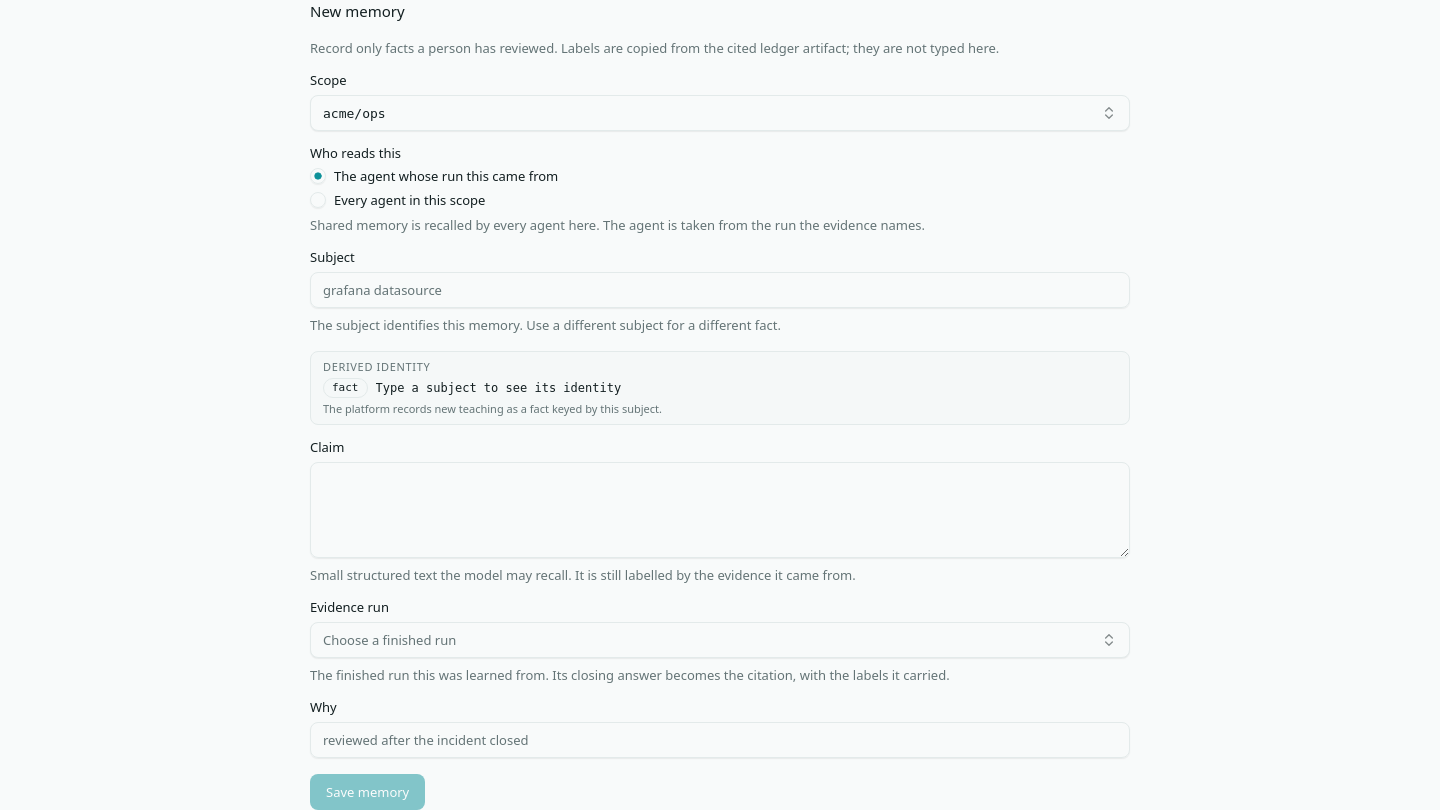
Test: global memory authoring › says when more finished runs exist beyond the first page
Click the dropdown named "Evidence run" at (390, 640), box [310, 622, 1130, 658]
(page scrolled)
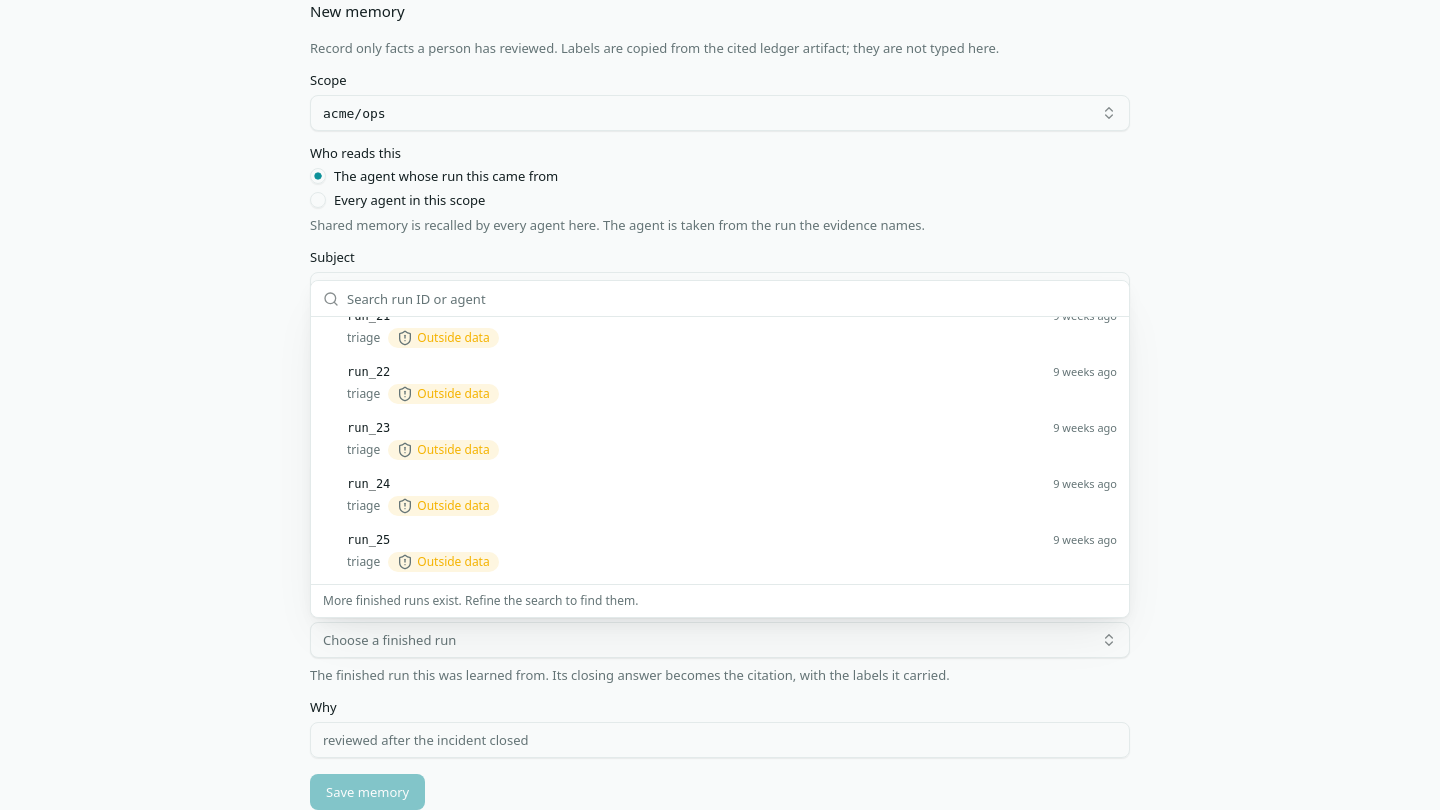
Expected: the text "More finished runs exist. Refine the search to find them." is shown, [311, 584, 1129, 617]
